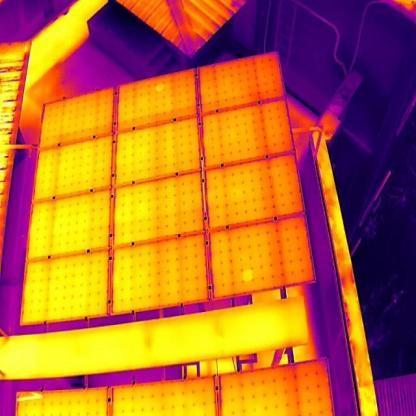anomaly: (235, 267, 261, 284)
